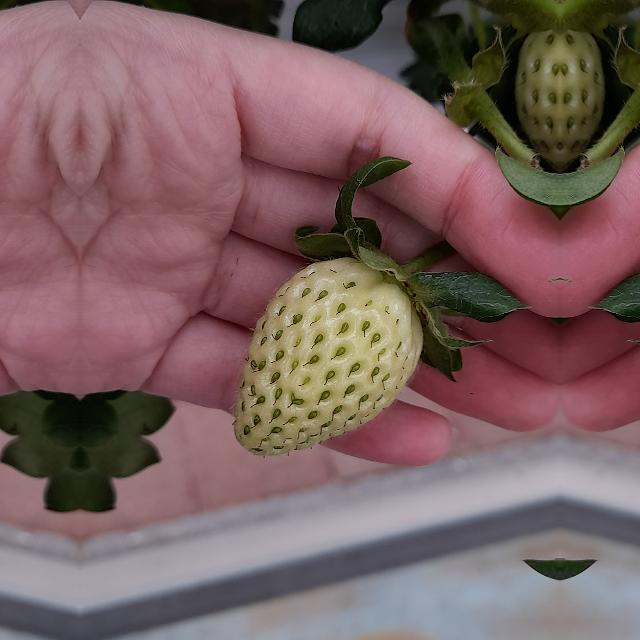Health_25: (233, 256, 423, 456)
